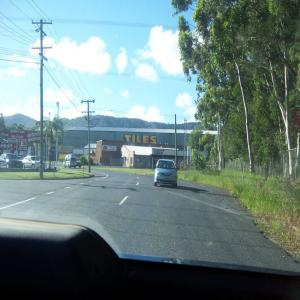Vehicle-registration-plate: (165, 178, 170, 182)
